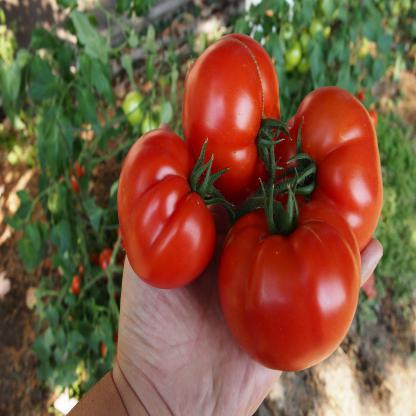tomato: (218, 183, 369, 374), (258, 80, 388, 263), (180, 26, 284, 207), (112, 126, 218, 296)
